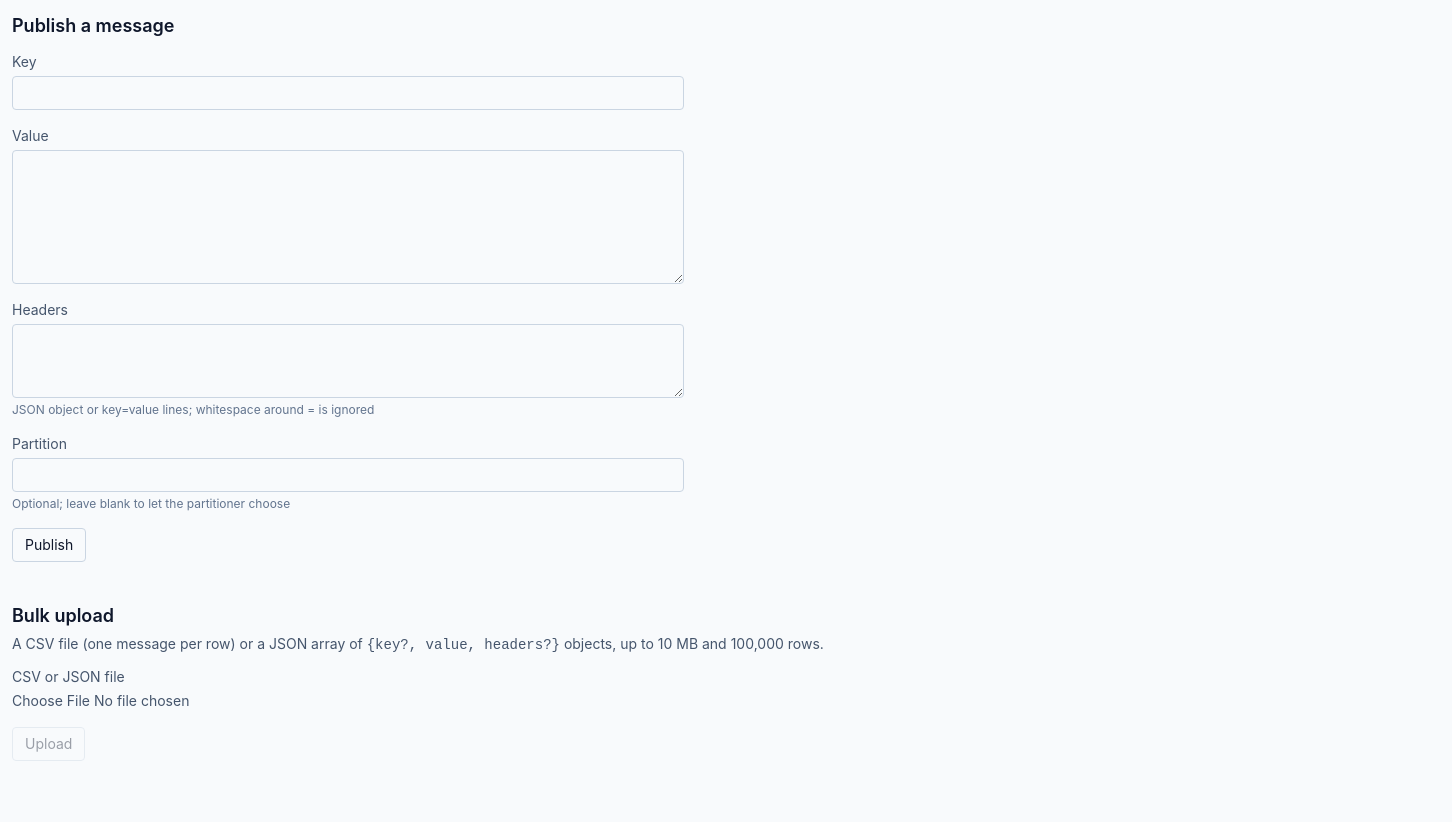
it: single publish › posts the key, value, headers and partition and toasts where it landed
Type "order-1" into the field labelled "Key".
click(348, 93); type("order-1")  # box [12,76,684,110]
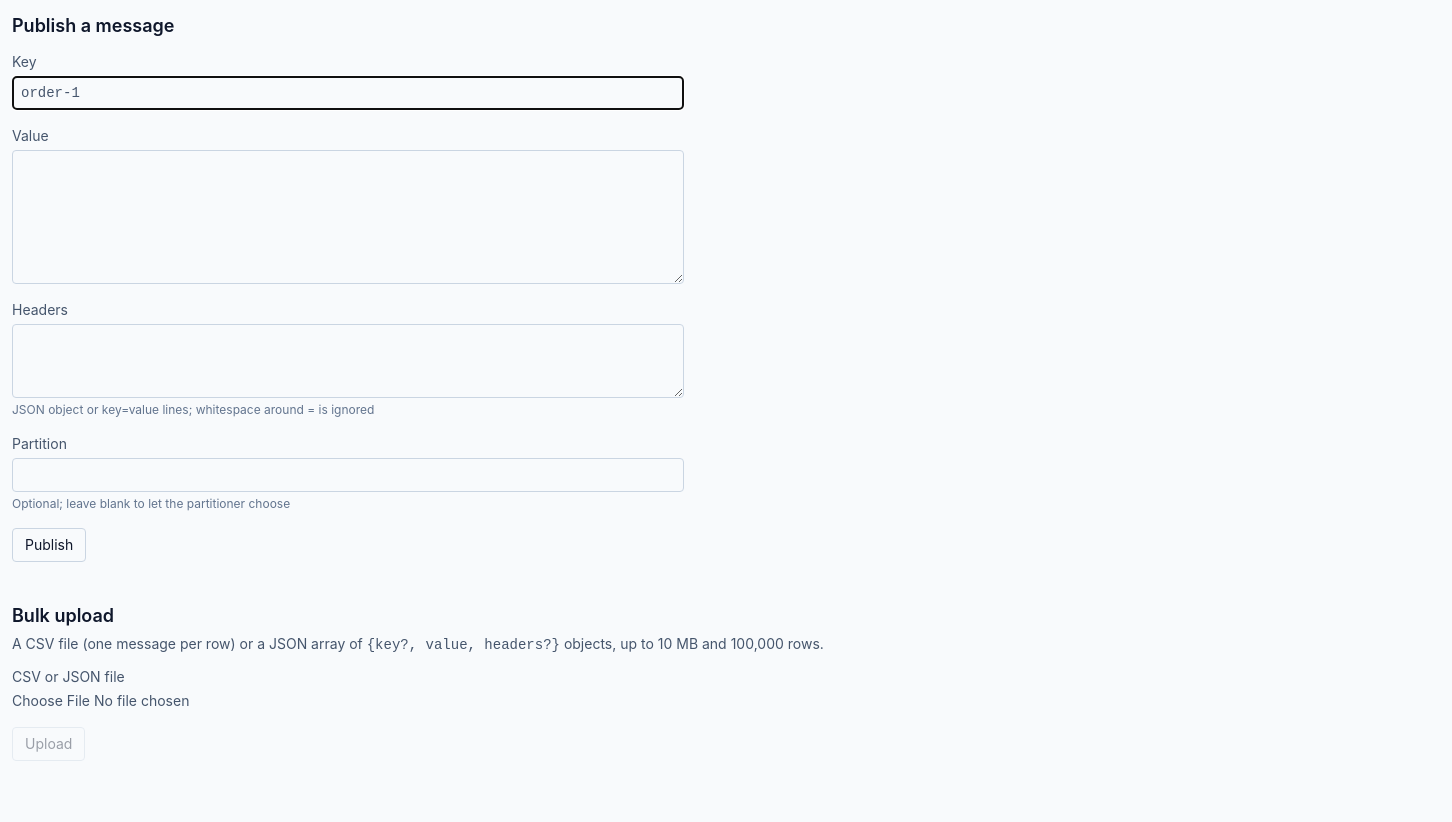
Type "hello" into the text box labelled "Value".
click(348, 217); type("hello")  # box [12,150,684,284]
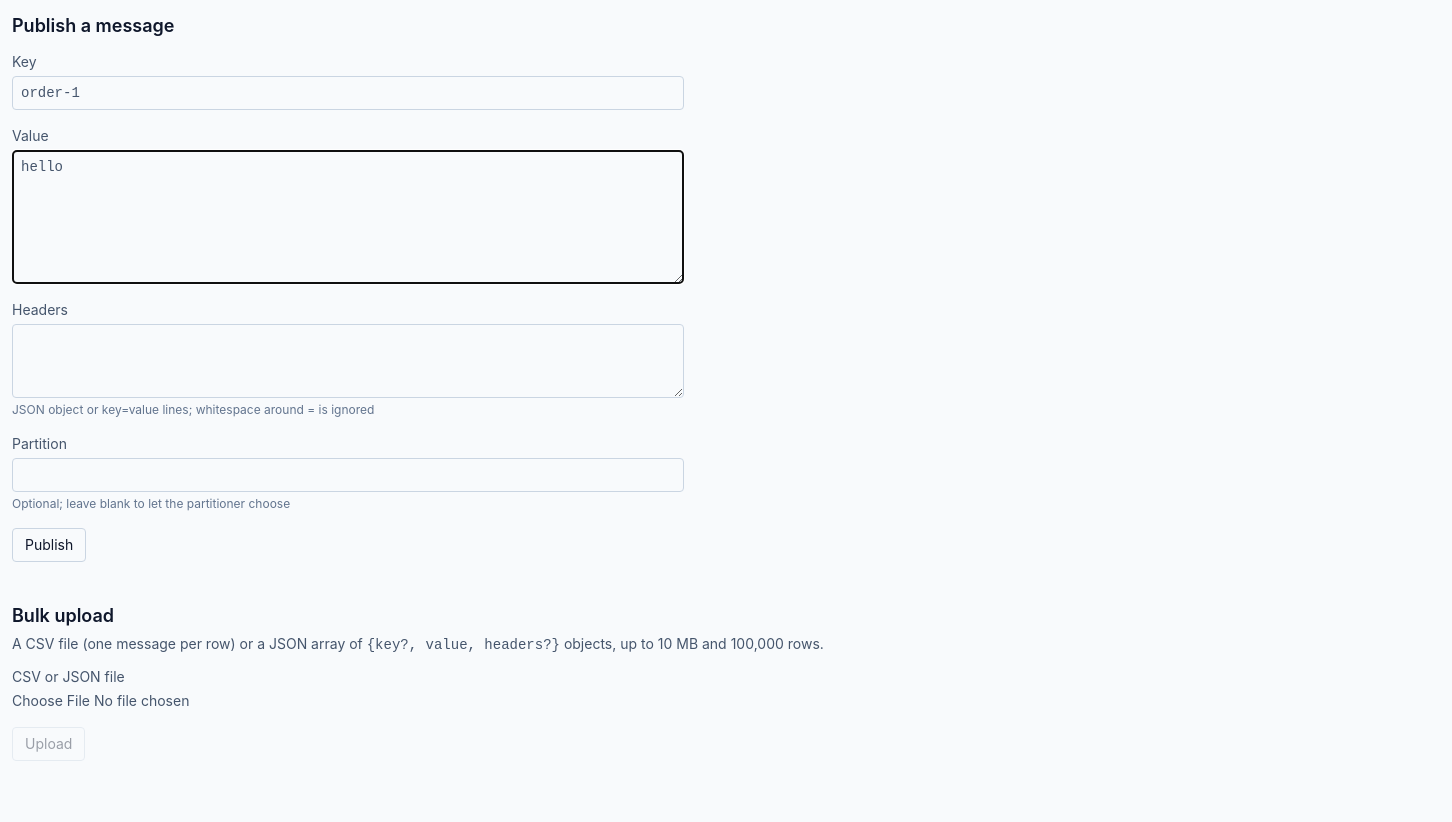
Type "trace=t1" into the text box labelled "Headers".
click(348, 361); type("trace=t1")  # box [12,324,684,398]
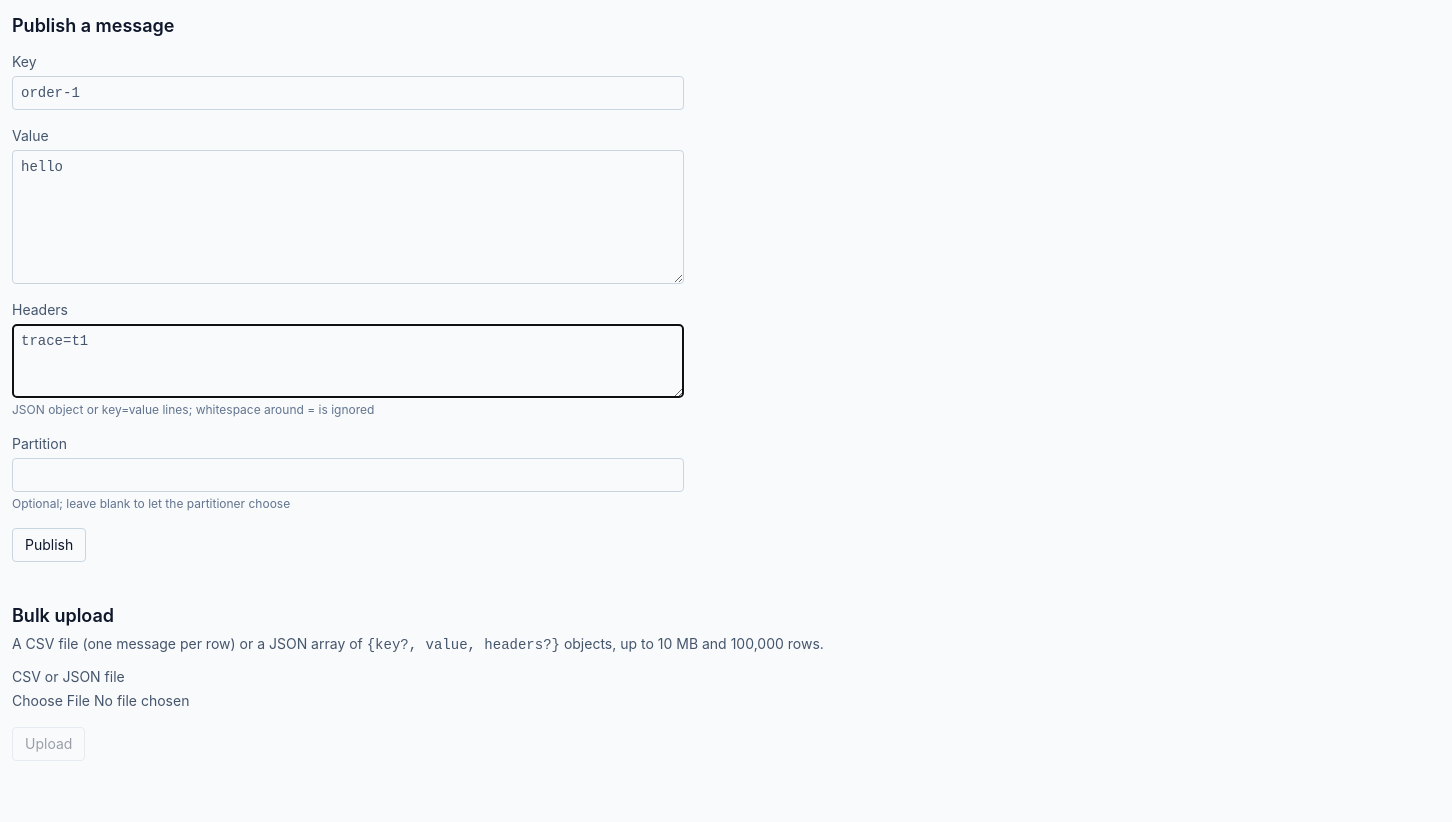
Type "1" into the field labelled "Partition".
click(348, 475); type("1")  # box [12,458,684,492]
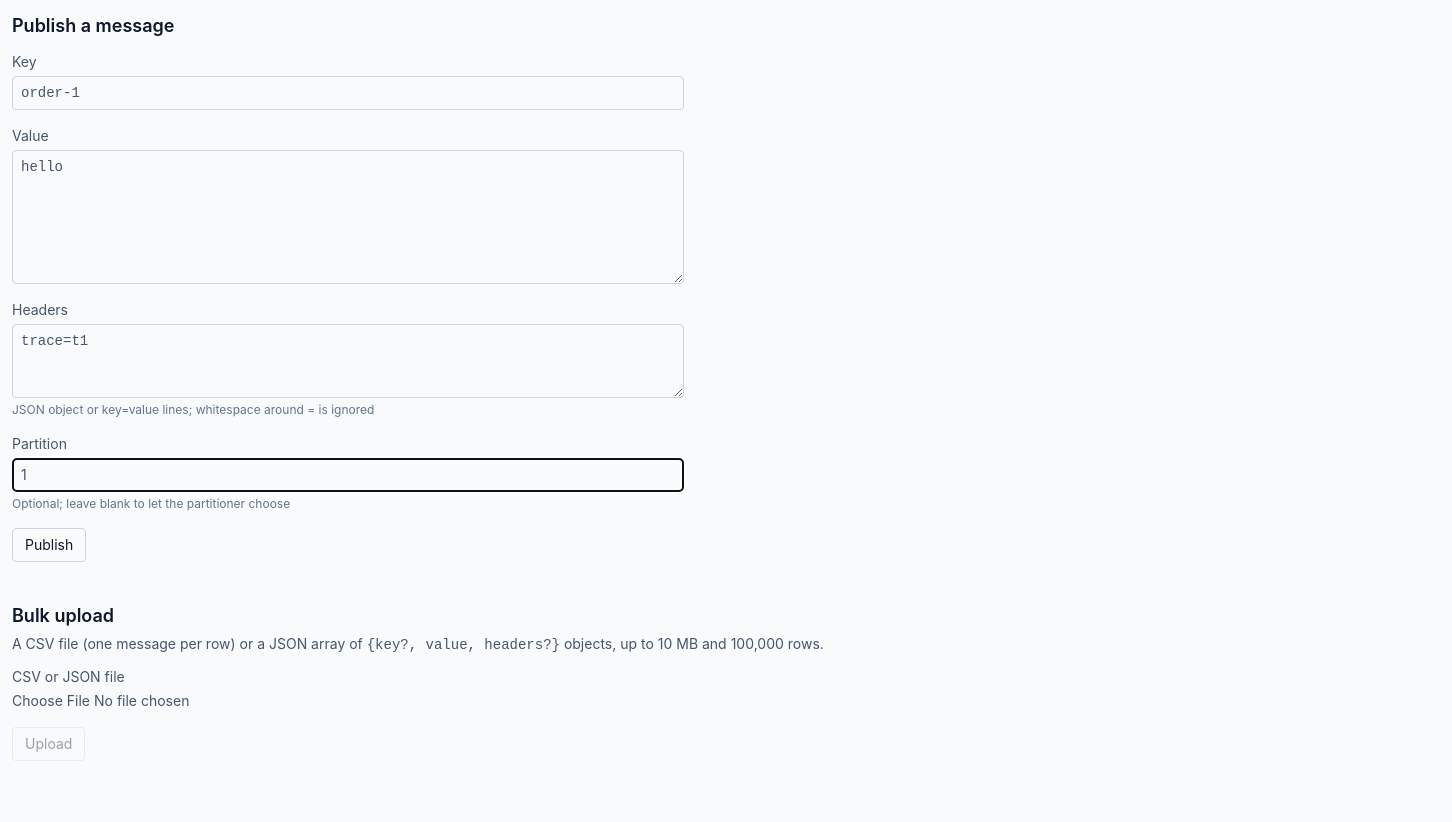
Click the button "Publish".
click(49, 545)  # box [12,528,86,562]
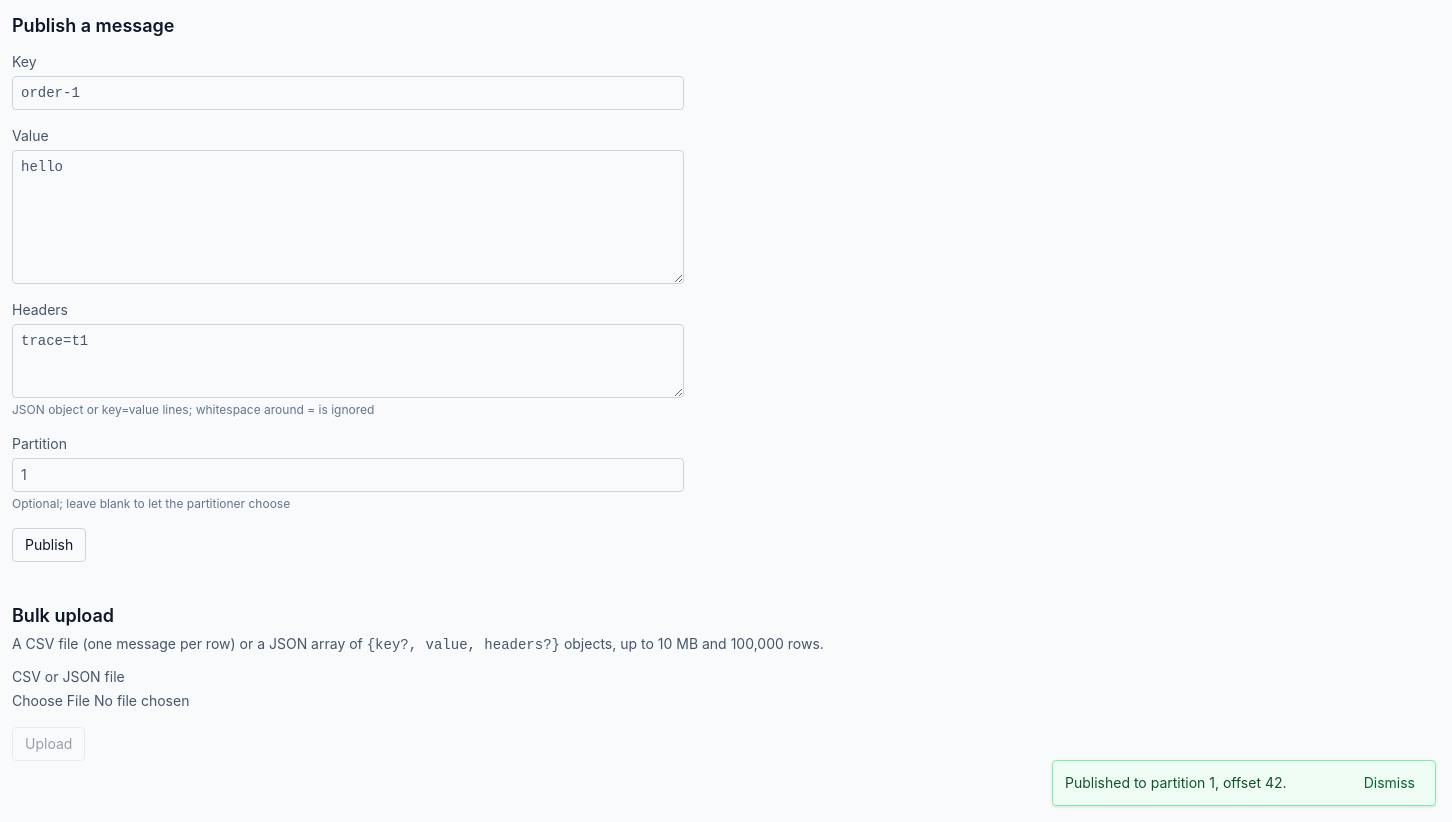
Expected: the message shows "partition 1", [1065,774,1286,791]
Expected: the message shows "offset 42", [1065,774,1286,791]
